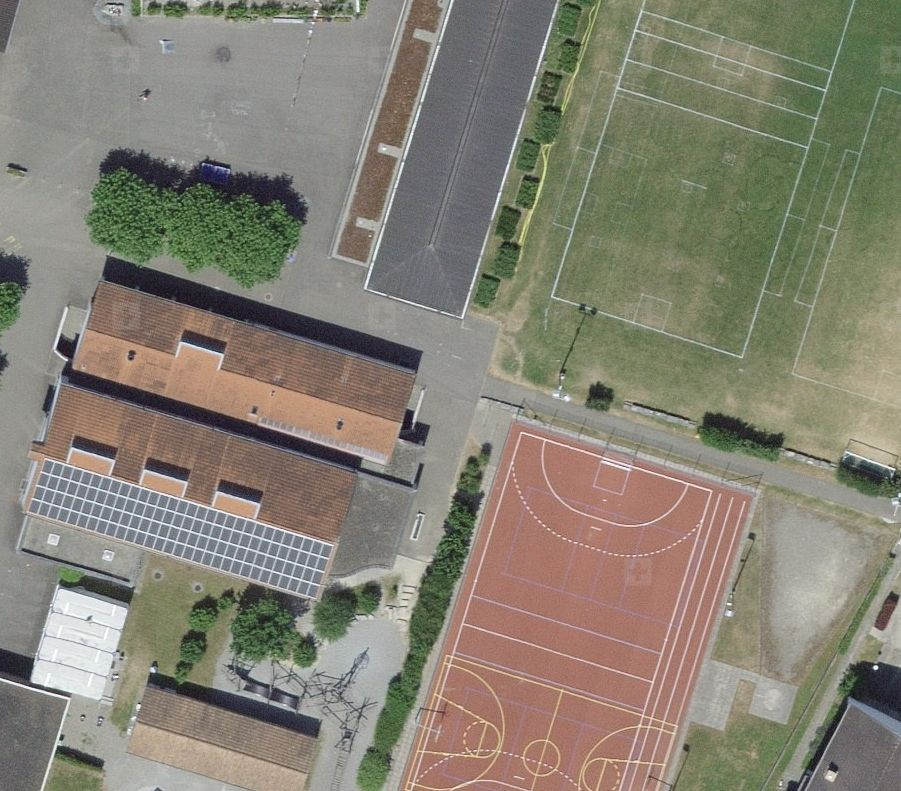solar: (26, 455, 334, 603)
